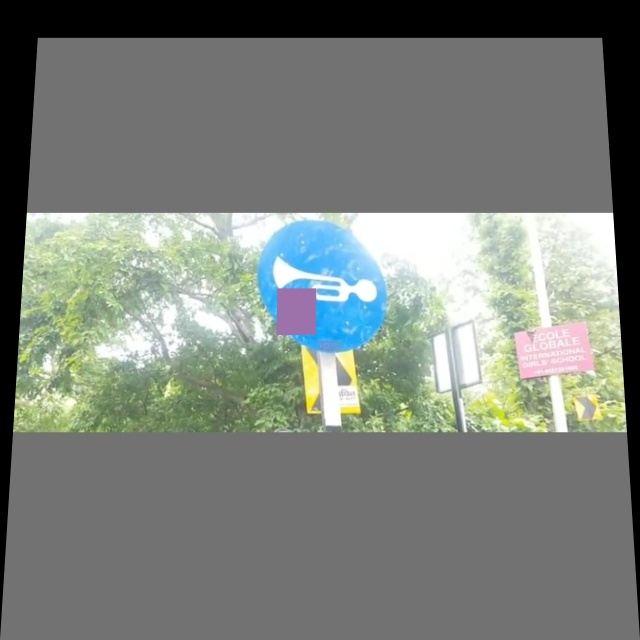Compulsory_Sound_Horn: (257, 222, 394, 347)
